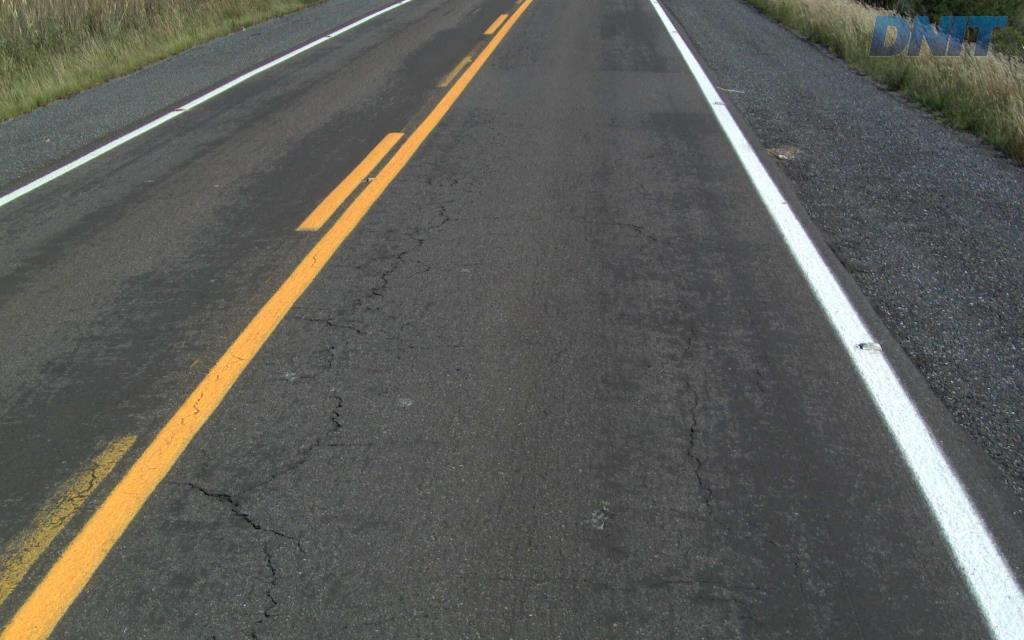crack: (191, 483, 261, 530)
